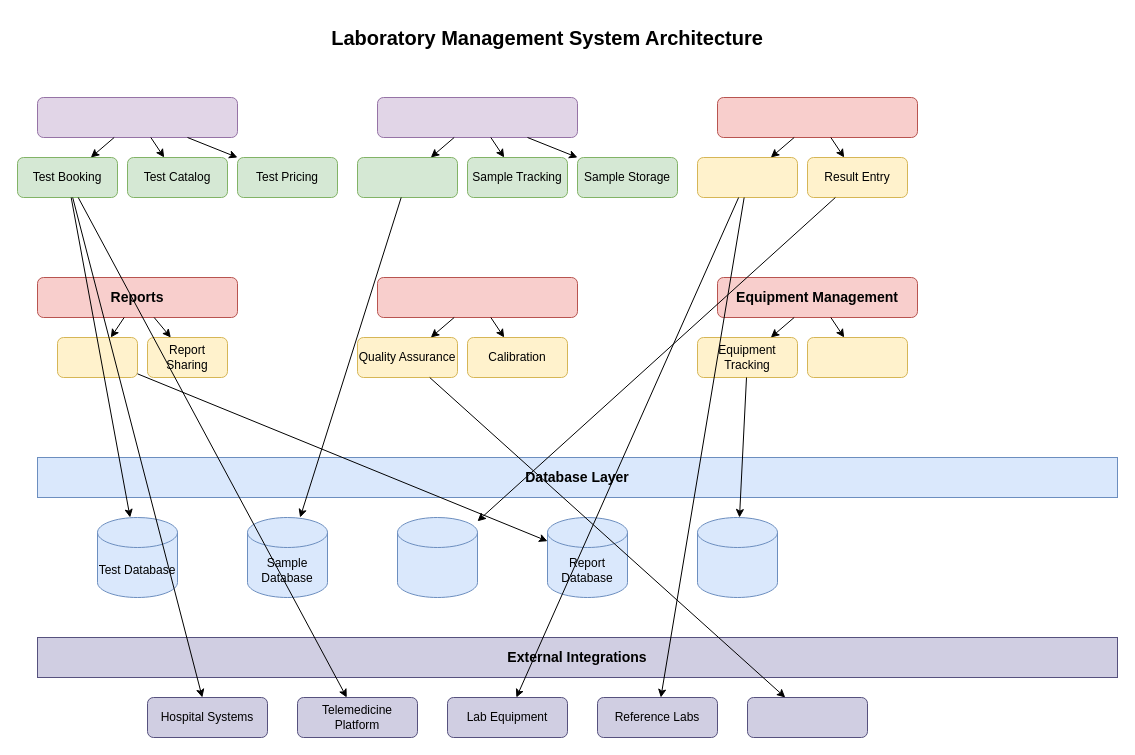
Some shapes in this 1135 by 755 pixel diagram are drawn without their labels. Each missing label, with the centre of its shape:
"Equipment Database" belongs at (x=737, y=557).
"Maintenance Schedule" belongs at (x=857, y=357).
"Processing" belongs at (x=817, y=117).
"Quality Control" belongs at (x=477, y=297).
"Regulatory Bodies" belongs at (x=807, y=717).
"Report Generation" belongs at (x=97, y=357).
"Result Database" belongs at (x=437, y=557).
"Sample Collection" belongs at (x=407, y=177).
"Sample Management" belongs at (x=477, y=117).
"Test Execution" belongs at (x=747, y=177).
"Test Management" belongs at (x=137, y=117).
